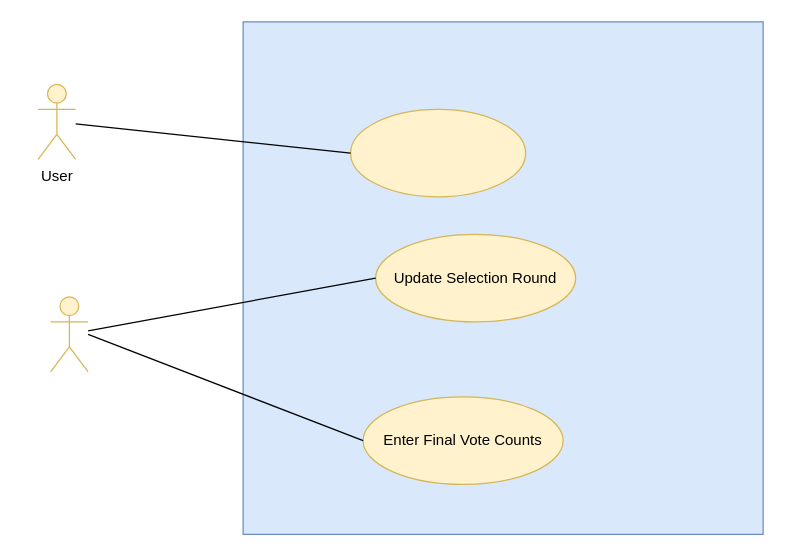
Image size: 785x556. Some labels were removed from this diagram. The box of each missing label's shape, as (x1, y1, x2, y2) in pixels:
Jury President: (49, 296, 88, 372)
View books: (349, 108, 526, 197)
